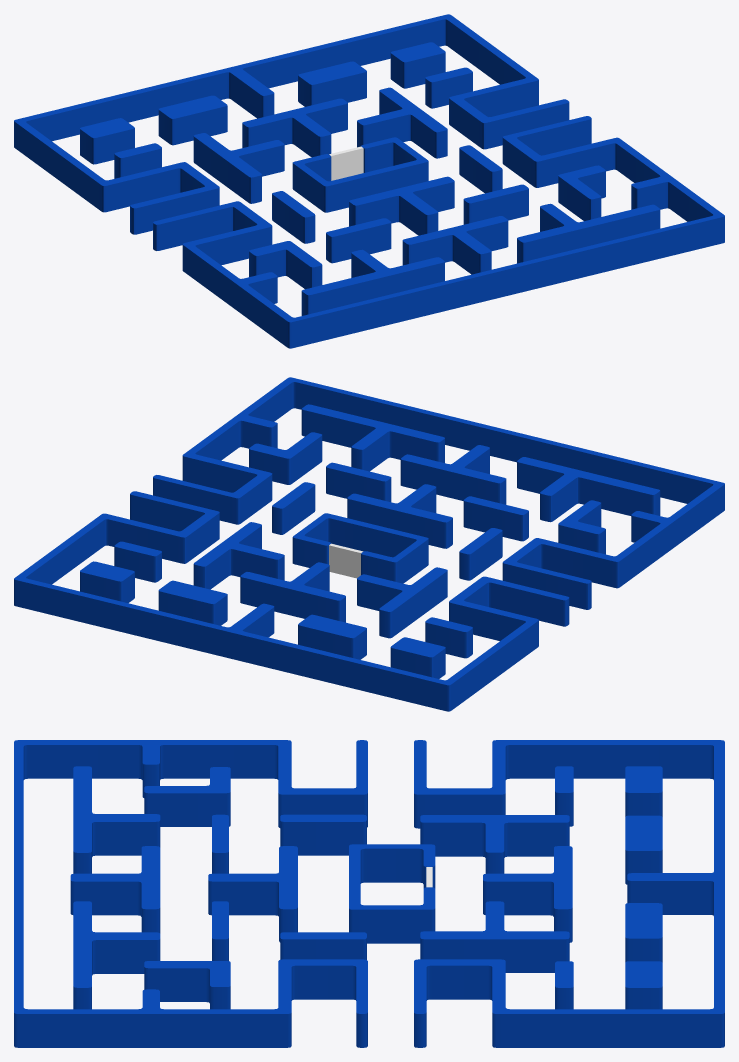
File: Sketchfab_Scene.gltf
3 views of the same model, one above another, from view 1: azimuth 30°, elevation 25°; view 2: azimuth 150°, elevation 25°; view 3: azimuth 270°, elevation 25° (orthographic). The views are drawn at different scales.
Visible parts, largest first — view 1: Object_4, Object_3; view 2: Object_4, Object_3; view 3: Object_4.
Boxes of the visible parts, x1,y1,x2,y2 form: Object_4: (14, 14, 724, 348); Object_3: (329, 146, 363, 180); Object_4: (14, 377, 724, 711); Object_3: (329, 543, 363, 578); Object_4: (14, 740, 724, 1047).
Size of the model in its own units: 3.47 by 0.2 by 3.81.
